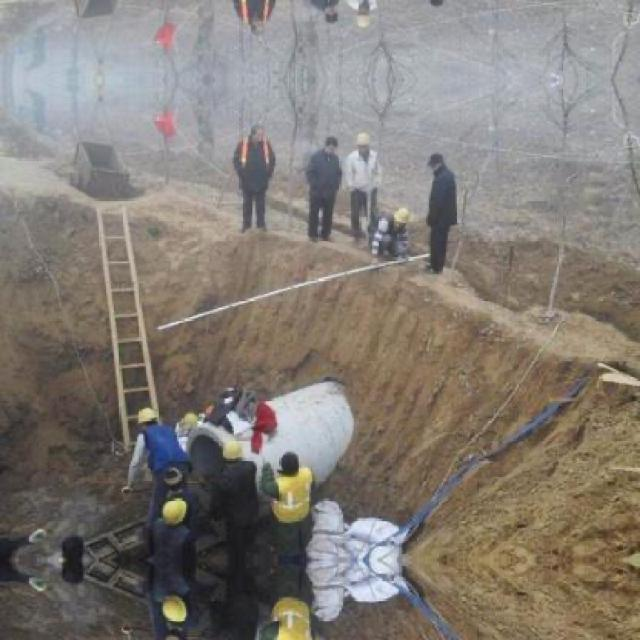con casco: (109, 408, 174, 460), (137, 491, 191, 546), (339, 116, 382, 182), (241, 128, 291, 168), (162, 576, 193, 633)
sin casco: (268, 449, 345, 514), (291, 127, 353, 183), (422, 143, 466, 203)
